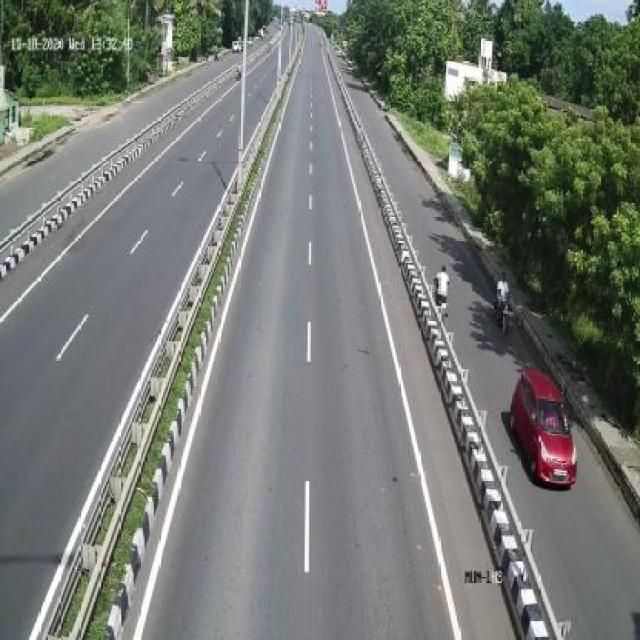car: (512, 360, 577, 491)
